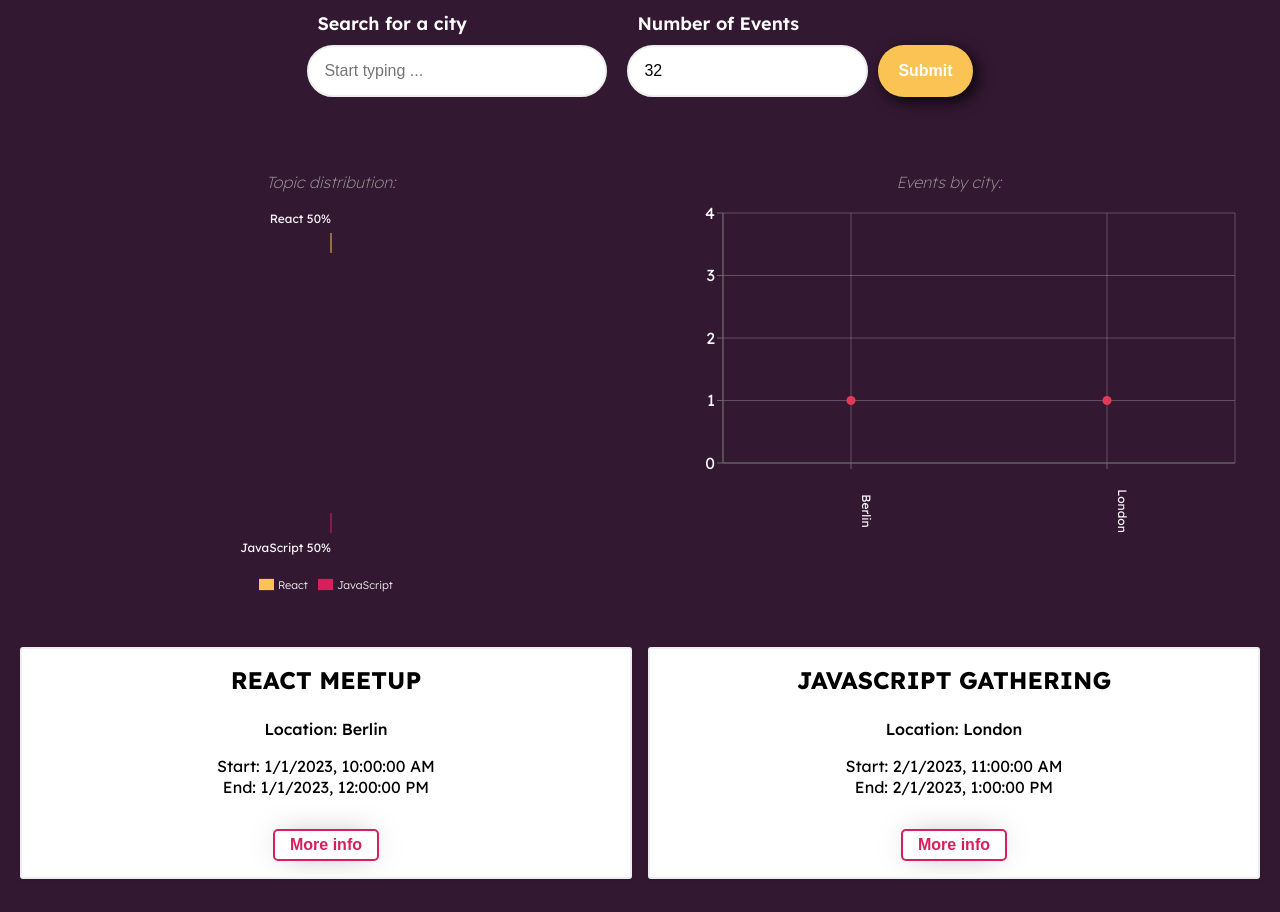
it: App Alert Integration Tests › shows InfoAlert if user types a city that does not exist
The image size is (1280, 912).
Type "UnknownCity" into the field named "search for a city" at point(457, 71), box [307,45,607,97]
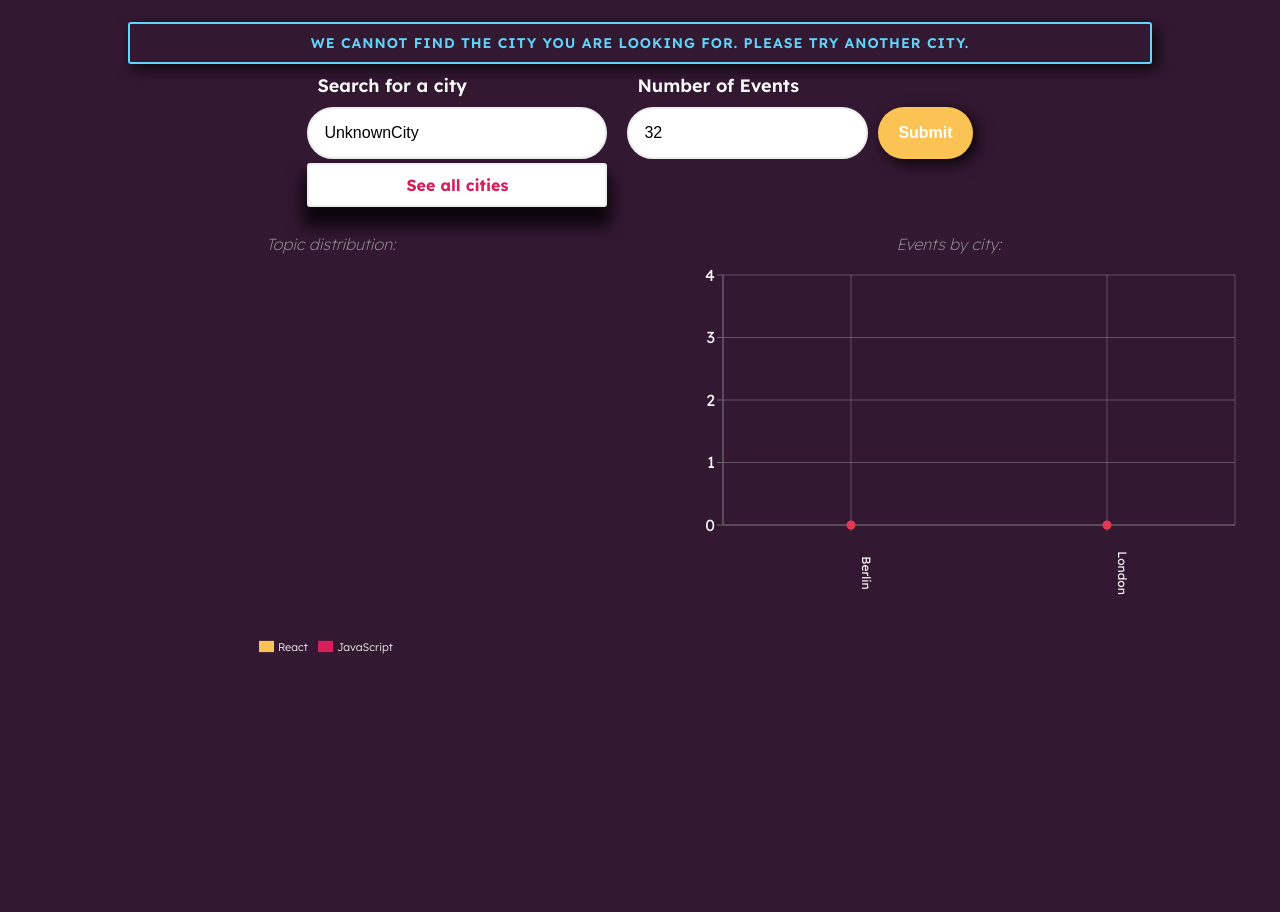
Check: the text "We cannot find the city you are looking for. Please try another city." is shown, box [128,22,1152,64]
